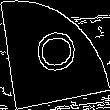O_W: (30, 30, 80, 80)
